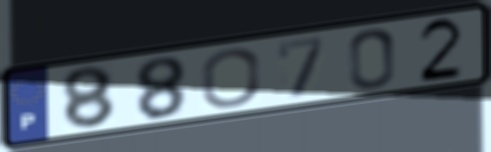0: (345, 26, 397, 92)
2: (416, 16, 468, 85)
7: (274, 33, 327, 101)
8: (59, 63, 118, 132), (130, 54, 189, 122)
O: (199, 45, 263, 111)
